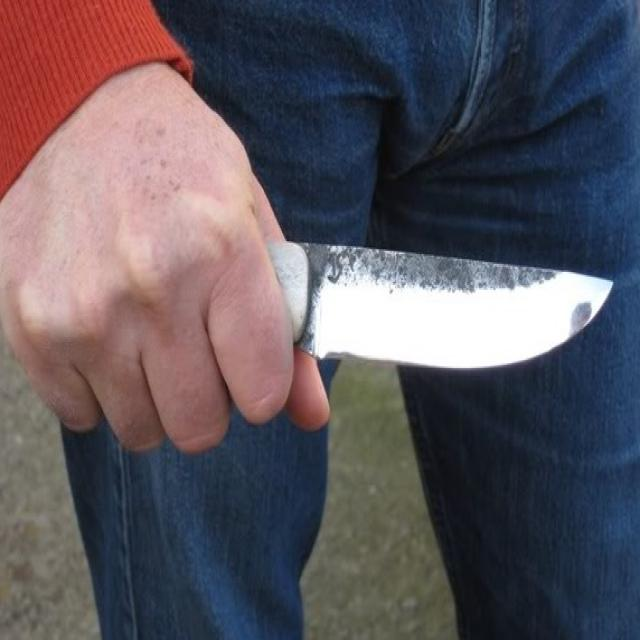knife: (271, 234, 617, 397)
